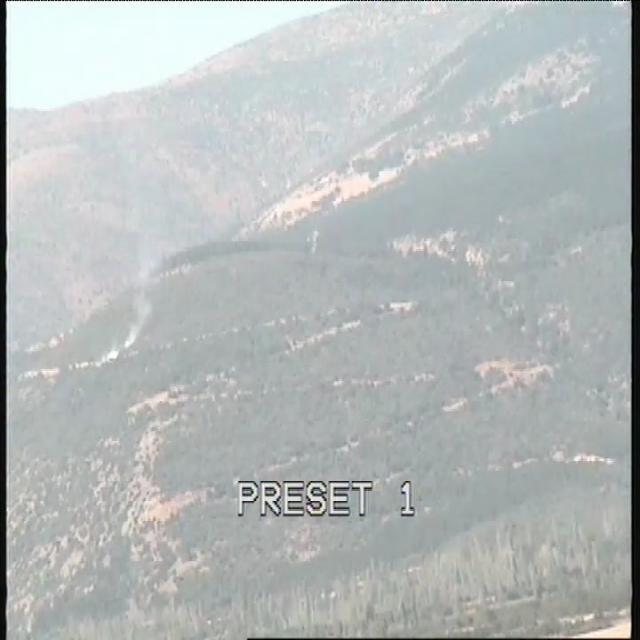smoke: (95, 268, 163, 363)
